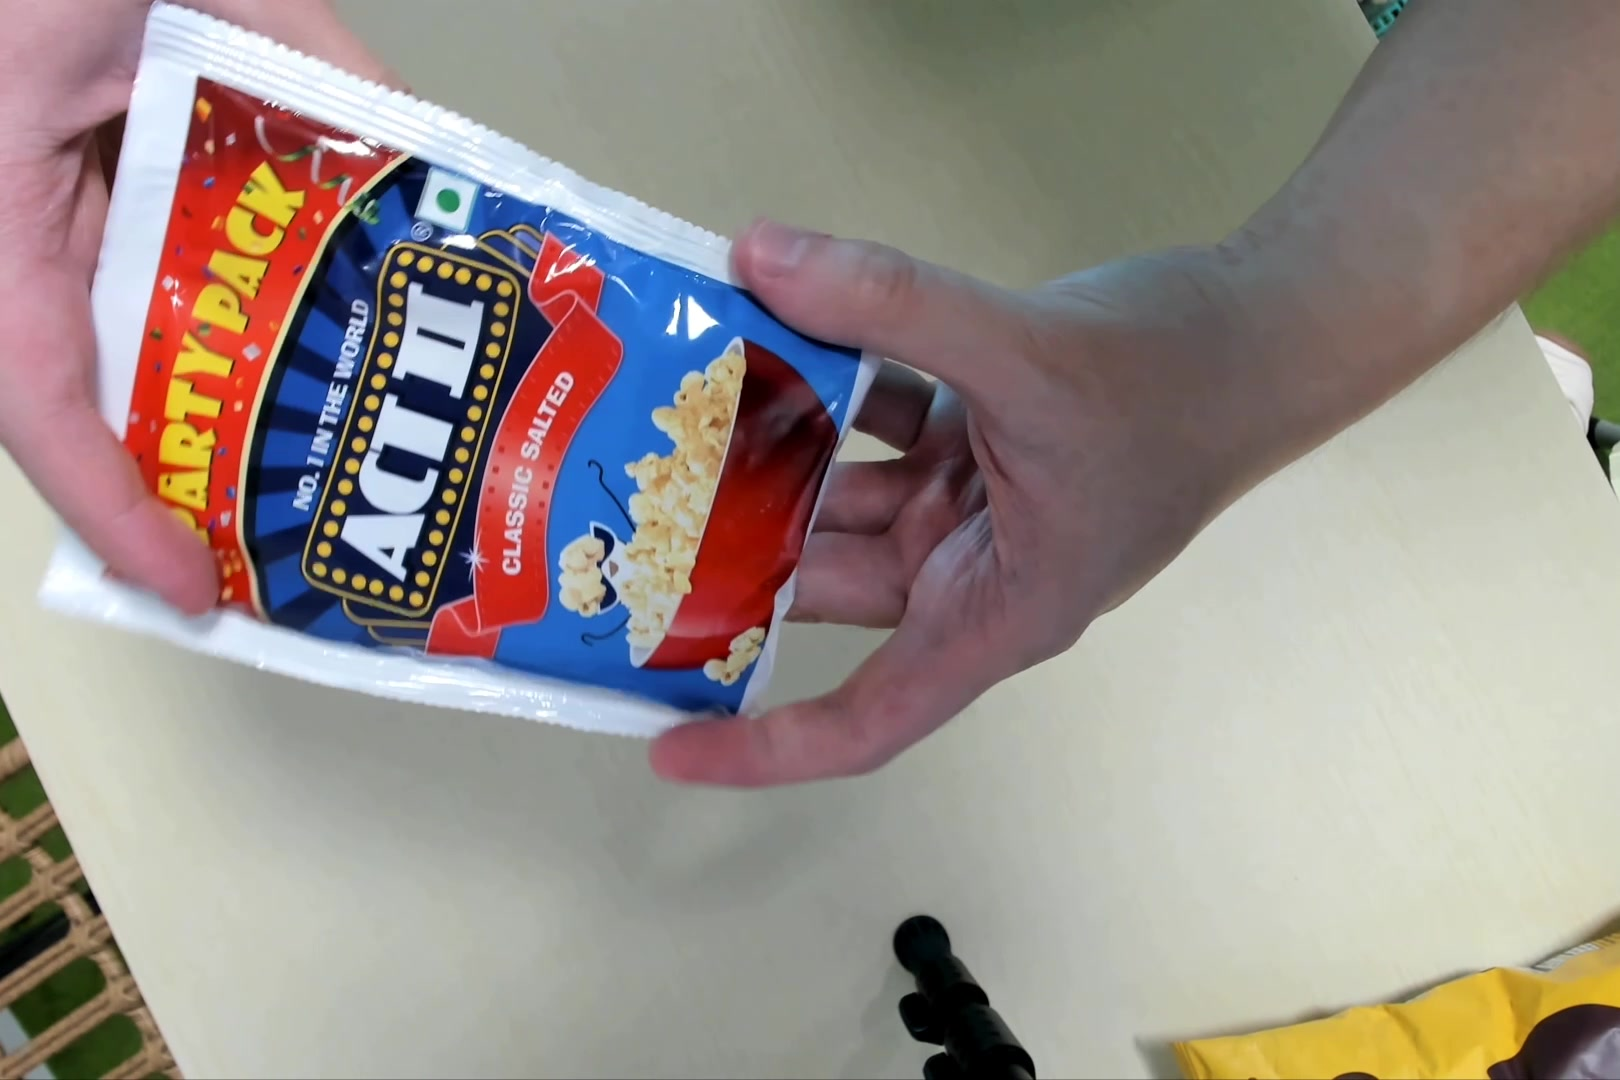PotatoChipsKeropok_100-199g_NonHalal_NonHealthy: (49, 16, 871, 753)
